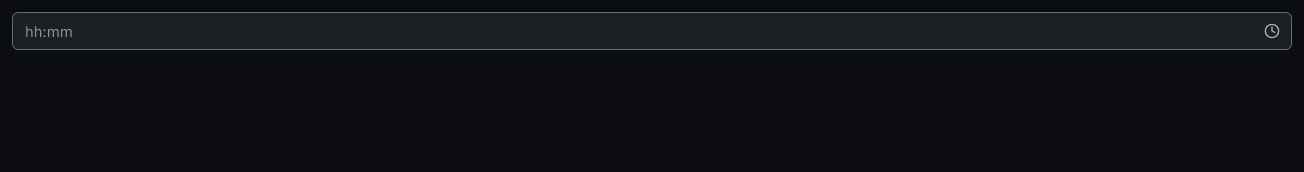
Test case: TimeField › « 1450 » → 14:50, valeur dans le champ caché
The width and height of the screenshot is (1304, 172).
Type "1450" into the field named "Heure". click: (652, 31)
box: [12,12,1292,50]
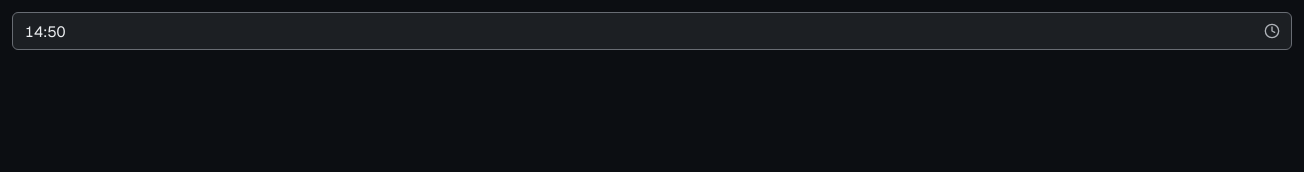
Result: the field named "Heure" holds "14:50" at [12,12,1292,50]
